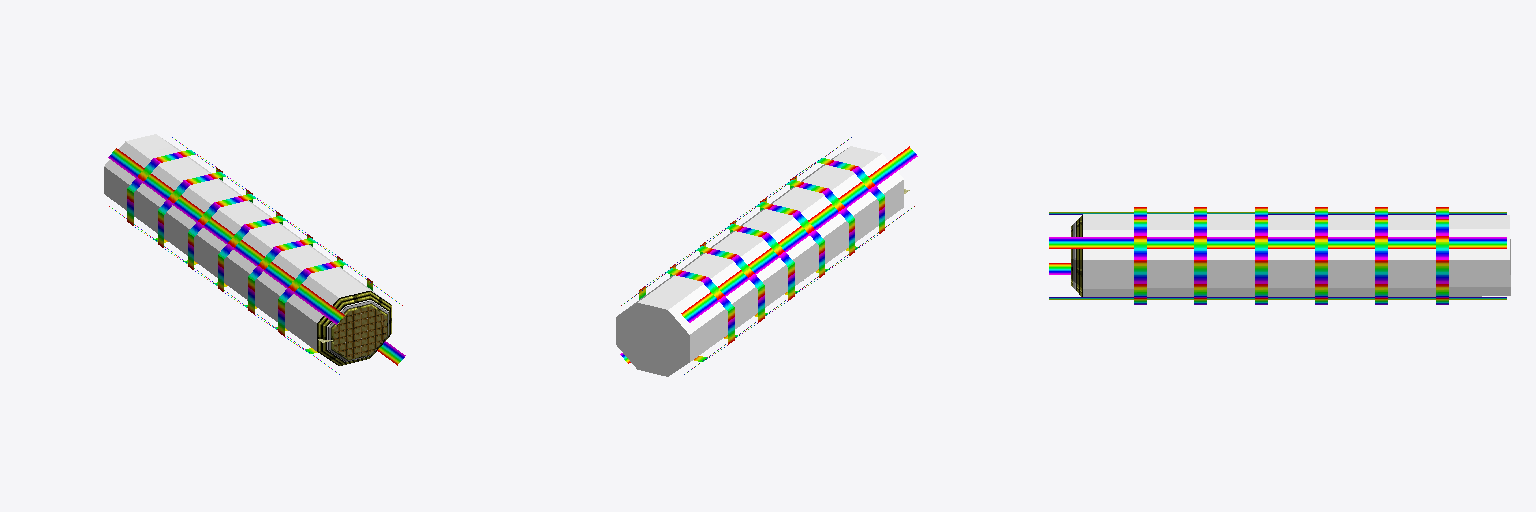
3 renders of one model, left to right at view 1: azimuth 30°, elevation 25°; view 2: azimuth 150°, elevation 25°; view 3: azimuth 270°, elevation 25°, orthographic.
Visible parts, largest first — view 1: r0; view 2: r0; view 3: r0.
Part boxes in pixels (bbox=[...]): r0: bbox=[104, 134, 405, 374]; r0: bbox=[616, 137, 917, 376]; r0: bbox=[1049, 207, 1510, 304].
Size of the model in its own units: 3.85 by 3.35 by 17.31.
Materials: 24 (8 with a texture image).